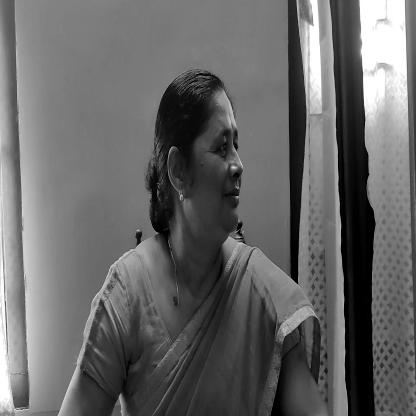Distracted: (158, 78, 252, 248)
